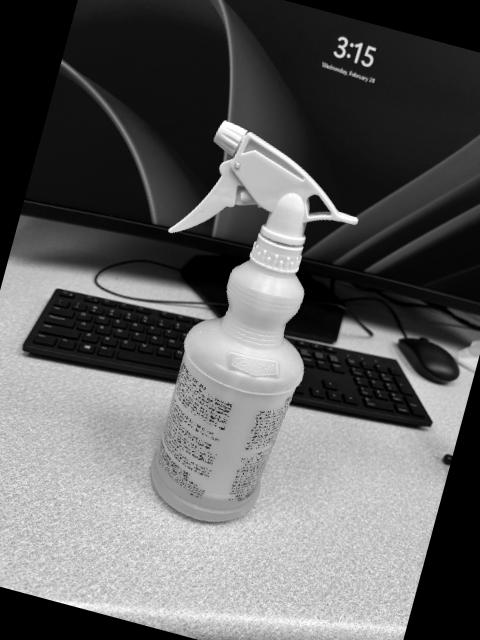StarSpray: (149, 122, 358, 526)
